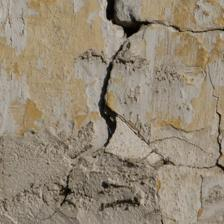Crack: (56, 73, 169, 145), (60, 0, 150, 82), (0, 22, 58, 133), (0, 35, 80, 79), (2, 34, 116, 50), (25, 101, 49, 157)
